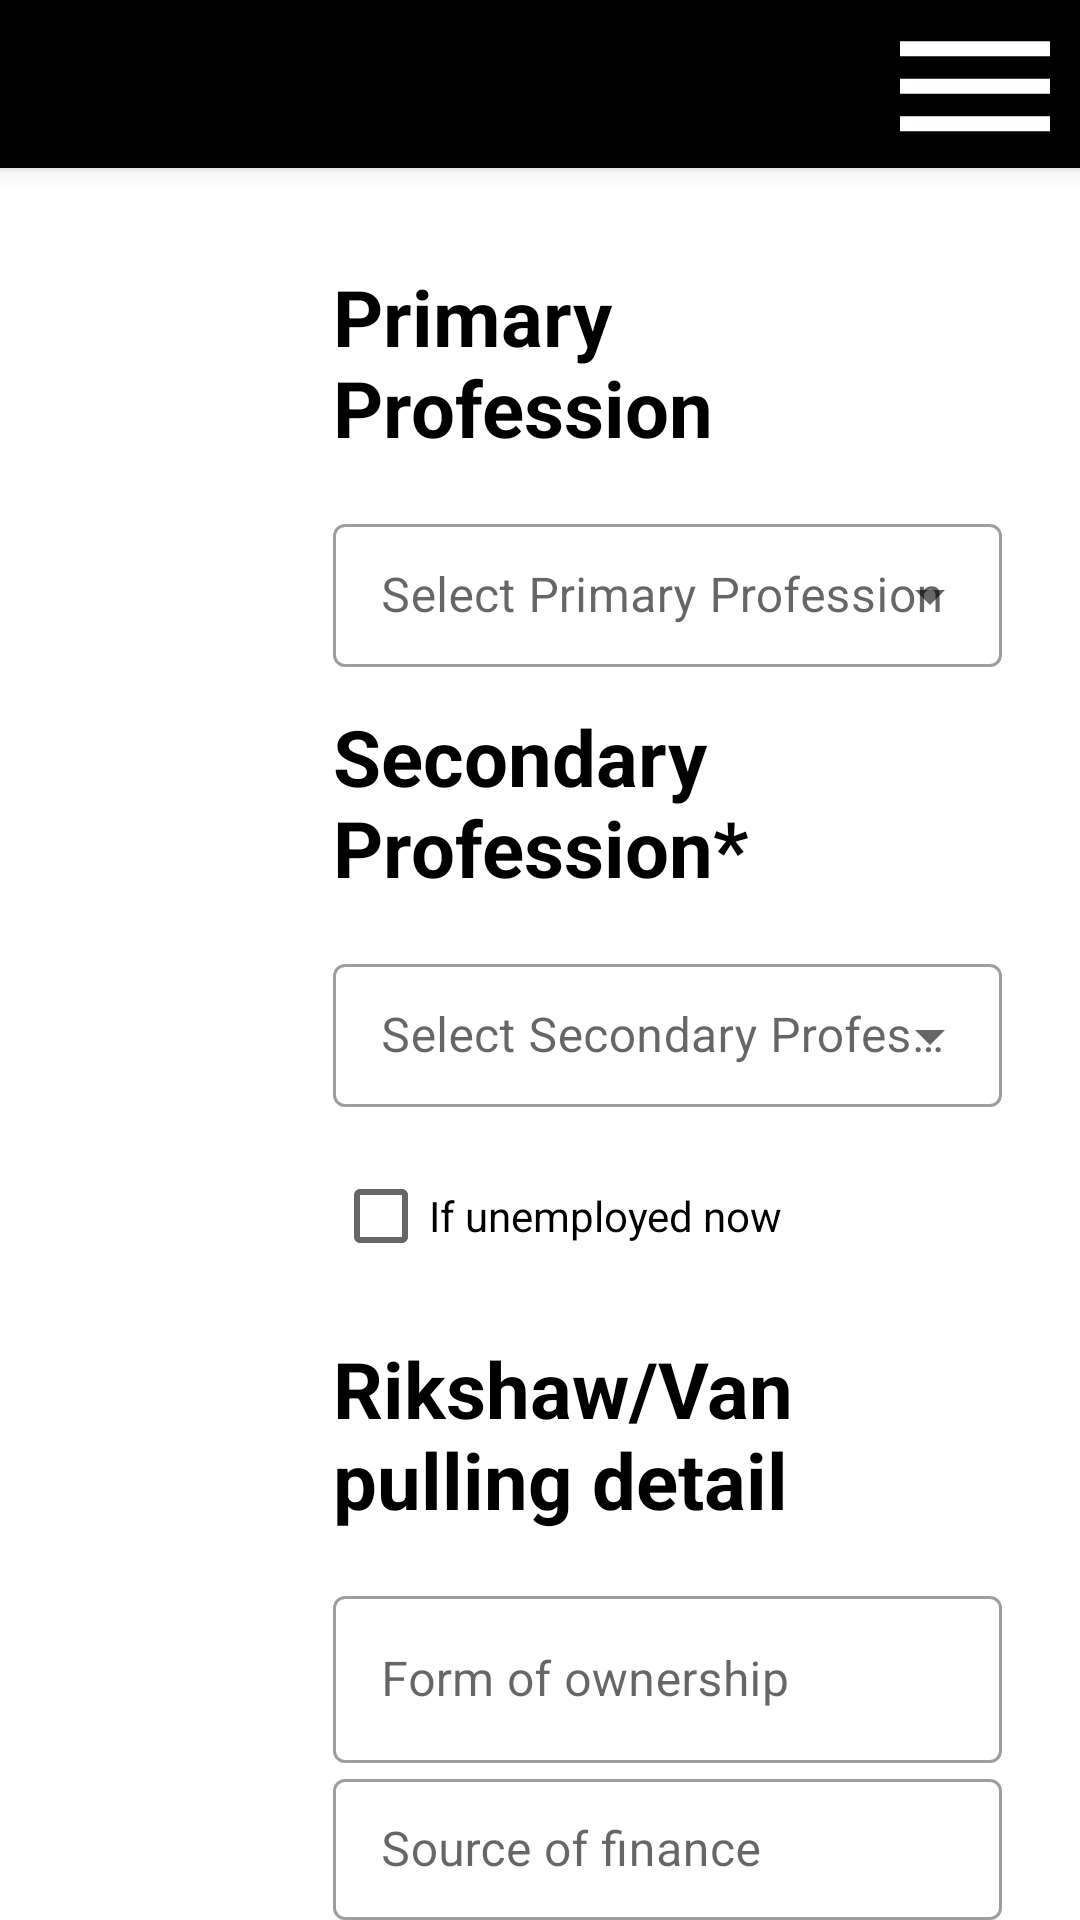

Named icons in this screenshot (1080px×1920px) and their centers, [x,y]:
dehaze: [975,86]
